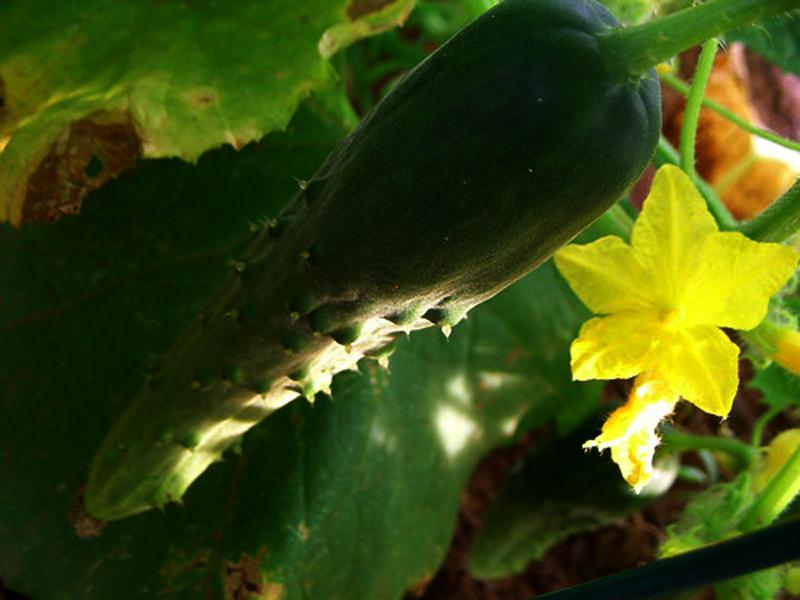Cucumber: (69, 2, 661, 539)
